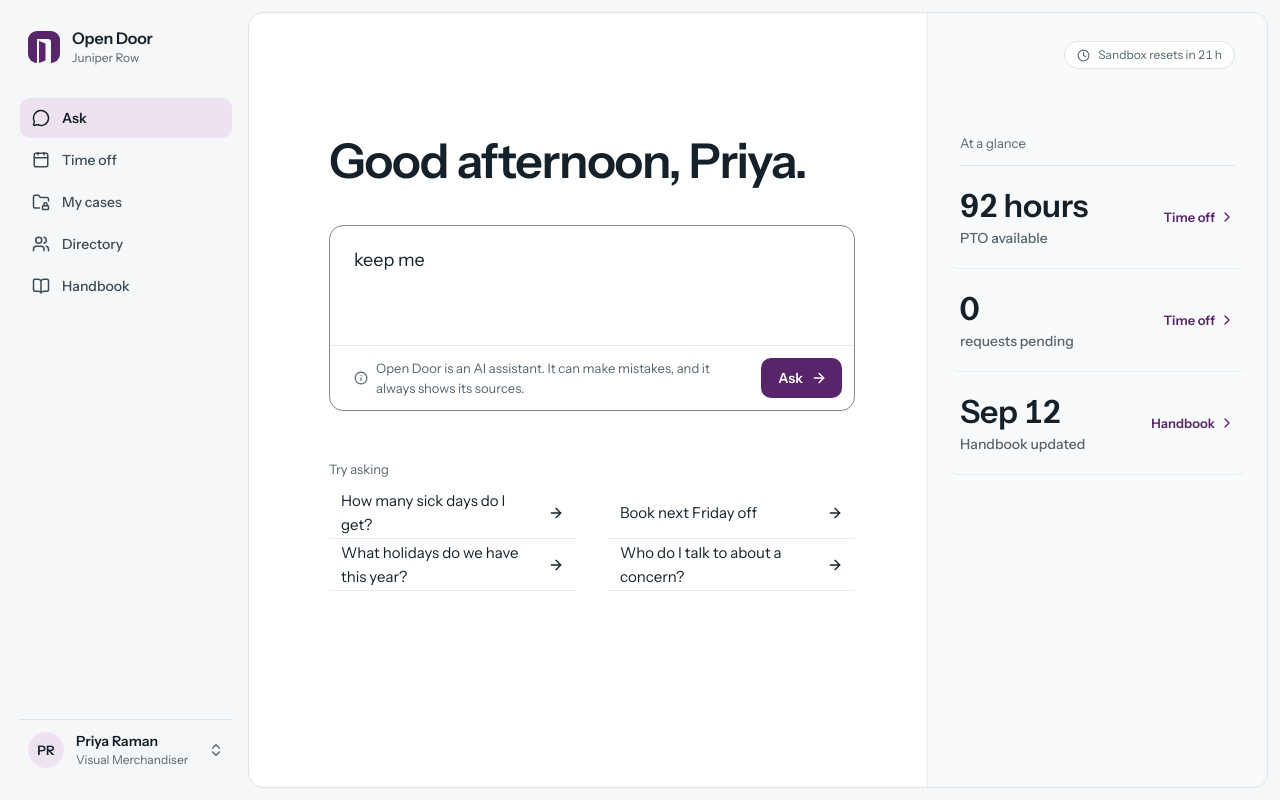
it: the shell: signing out › stays signed in and shows an error when signing out fails
Expected: the element named "Sidebar" is shown, x1=0 y1=0 x2=248 y2=799
Click the button named "Switch persona" at (126, 750), box x1=20 y1=719 x2=232 y2=780
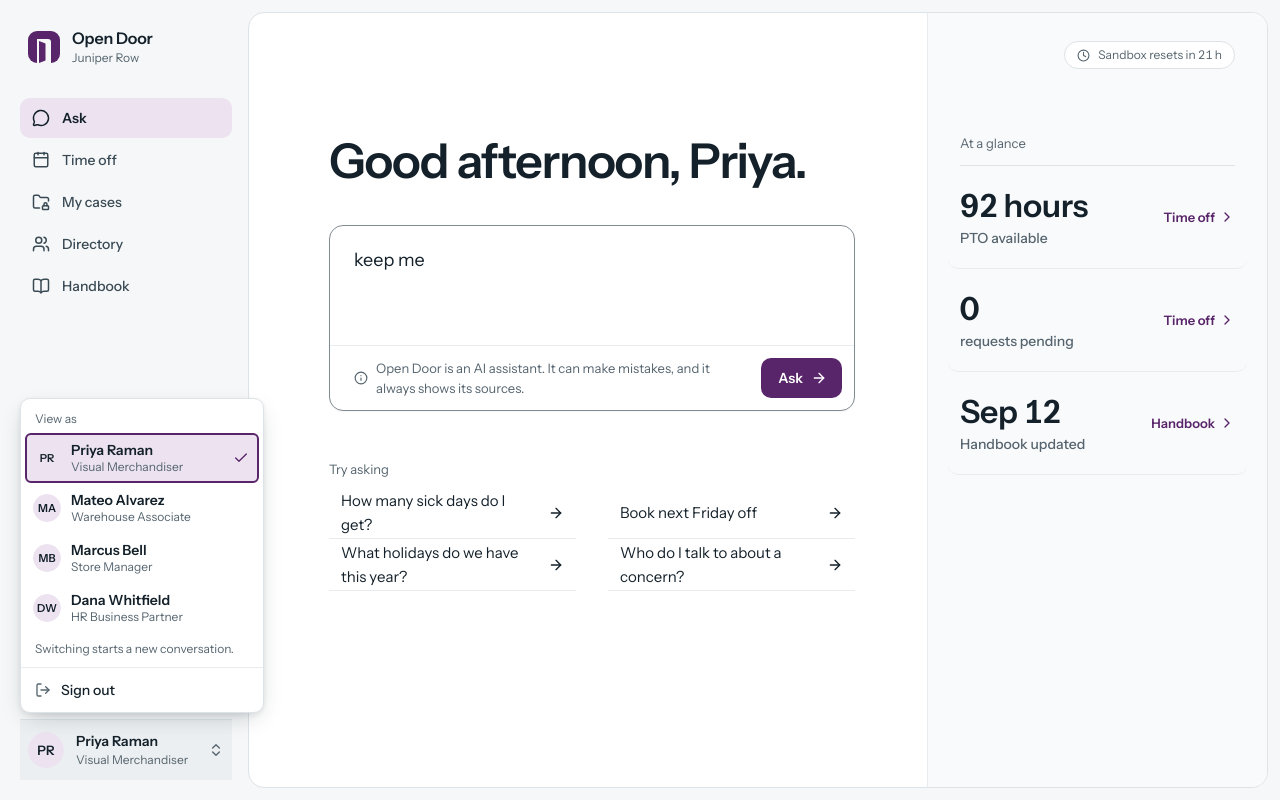
Click the menu item "Sign out" at (75, 690), box x1=35 y1=681 x2=115 y2=699
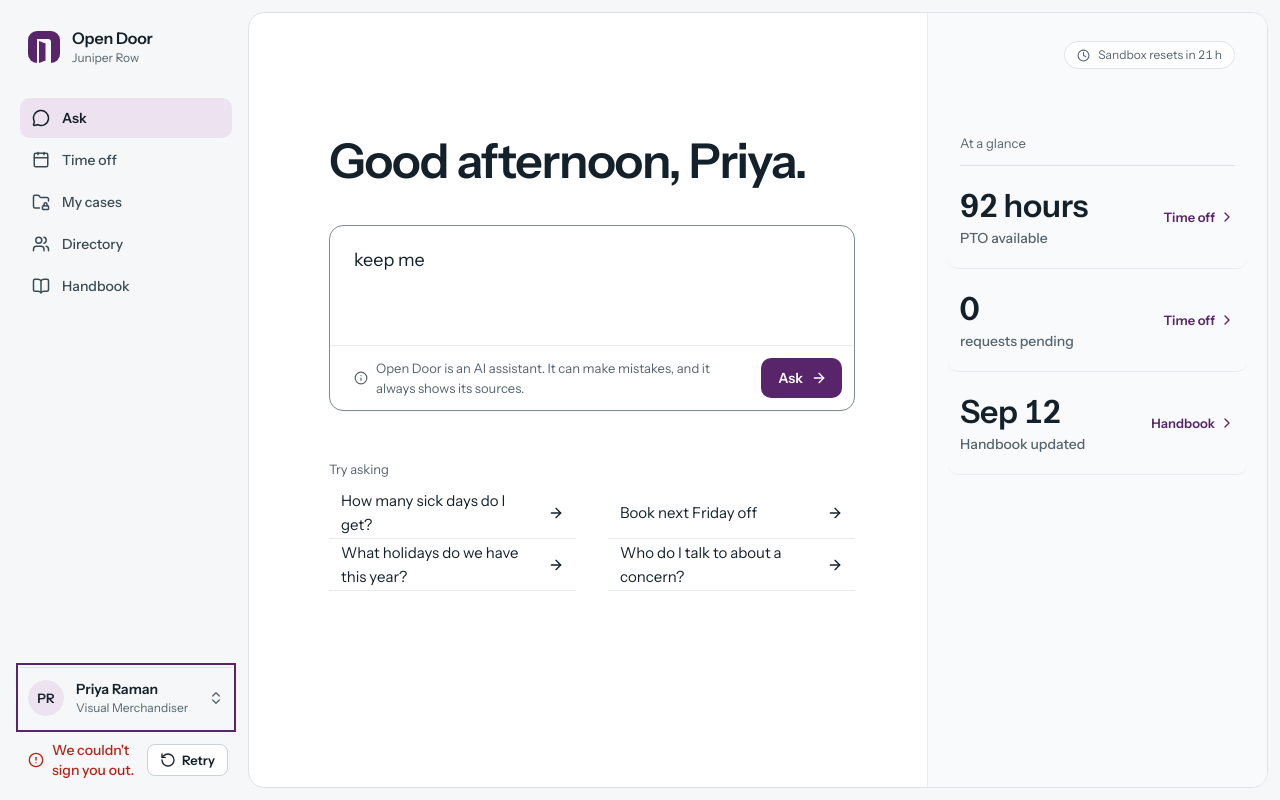
Result: the message shows "We couldn't sign you out." at x1=52 y1=741 x2=134 y2=779
Click the button "Retry" at (188, 760), box x1=147 y1=744 x2=228 y2=776
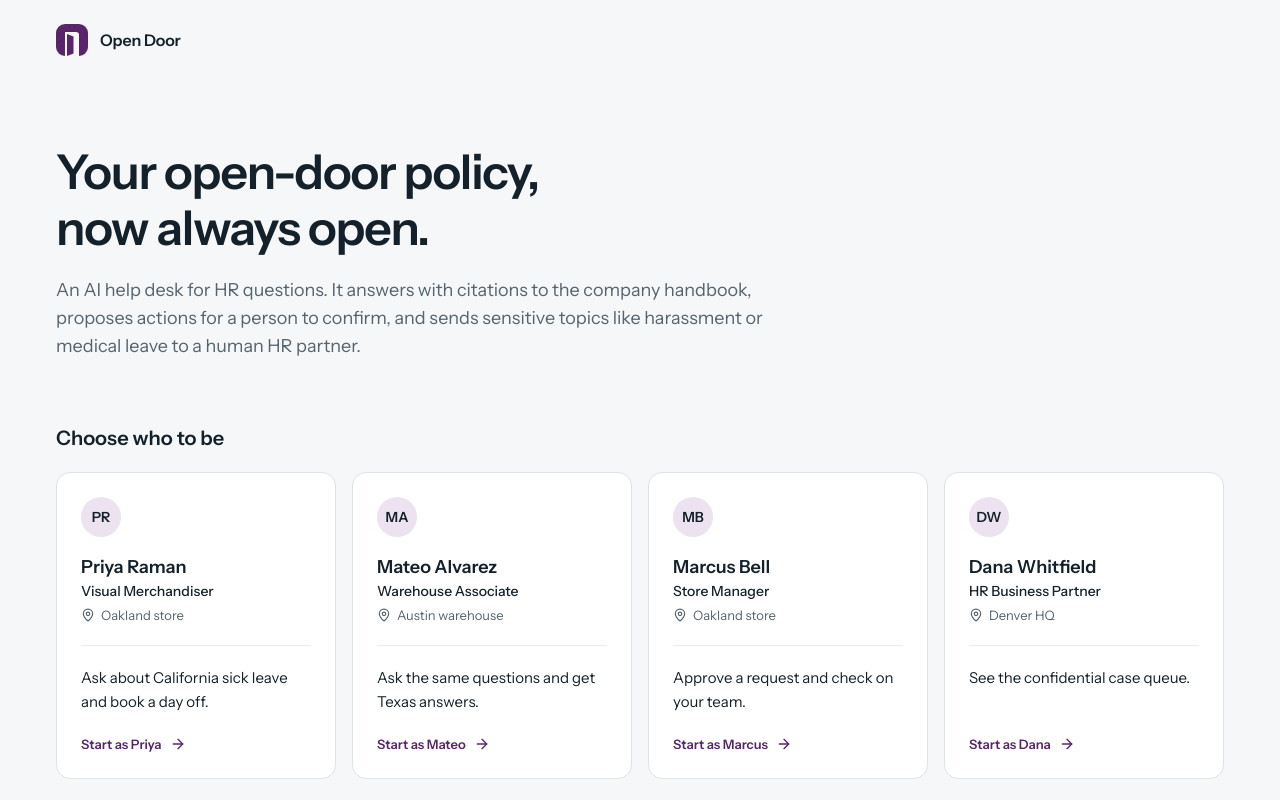
Result: the heading "Your open-door policy, now always open." is shown at x1=56 y1=142 x2=539 y2=257
